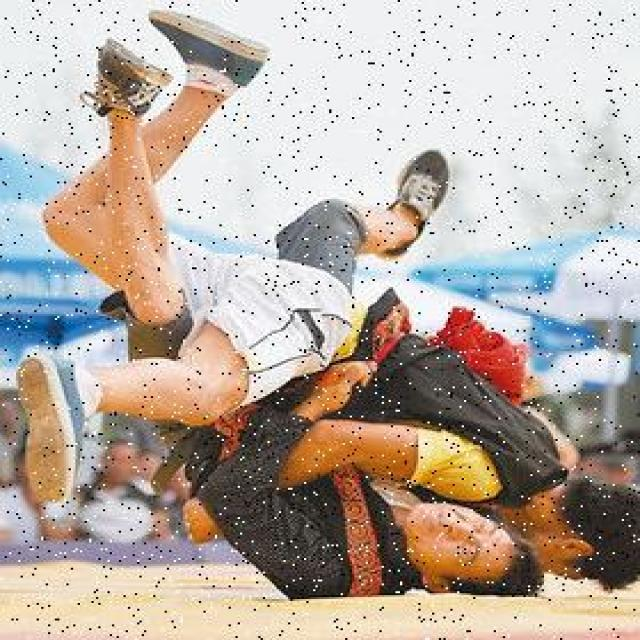fall: (57, 222, 633, 532)
